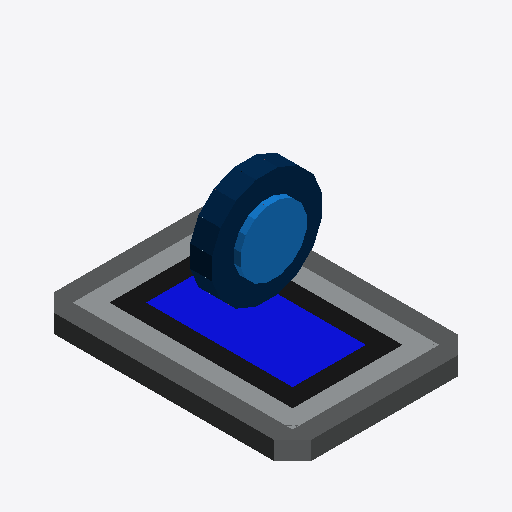
Isometric view (azimuth 45°, elevation 35.3°) of a Minecraft model made of 22 cuboids, textured from the same repository.
Visible parts, largest first — element 17, element 18, element 3, element 1, element 4, element 5, element 2, element 6, element 20, element 8, element 9, element 7 (+5 smaller).
Part boxes in pixels (bbox=[...]): element 17: bbox=[55, 208, 457, 460]; element 18: bbox=[54, 233, 456, 460]; element 3: bbox=[199, 189, 312, 271]; element 1: bbox=[235, 155, 277, 305]; element 4: bbox=[190, 215, 321, 255]; element 5: bbox=[190, 193, 321, 280]; element 2: bbox=[214, 167, 297, 293]; element 6: bbox=[190, 173, 321, 299]; element 20: bbox=[274, 425, 310, 460]; element 8: bbox=[228, 153, 297, 308]; element 9: bbox=[261, 195, 279, 281]; element 7: bbox=[209, 158, 312, 308].
Size of the model in its own units: 10 by 8.4 by 14.